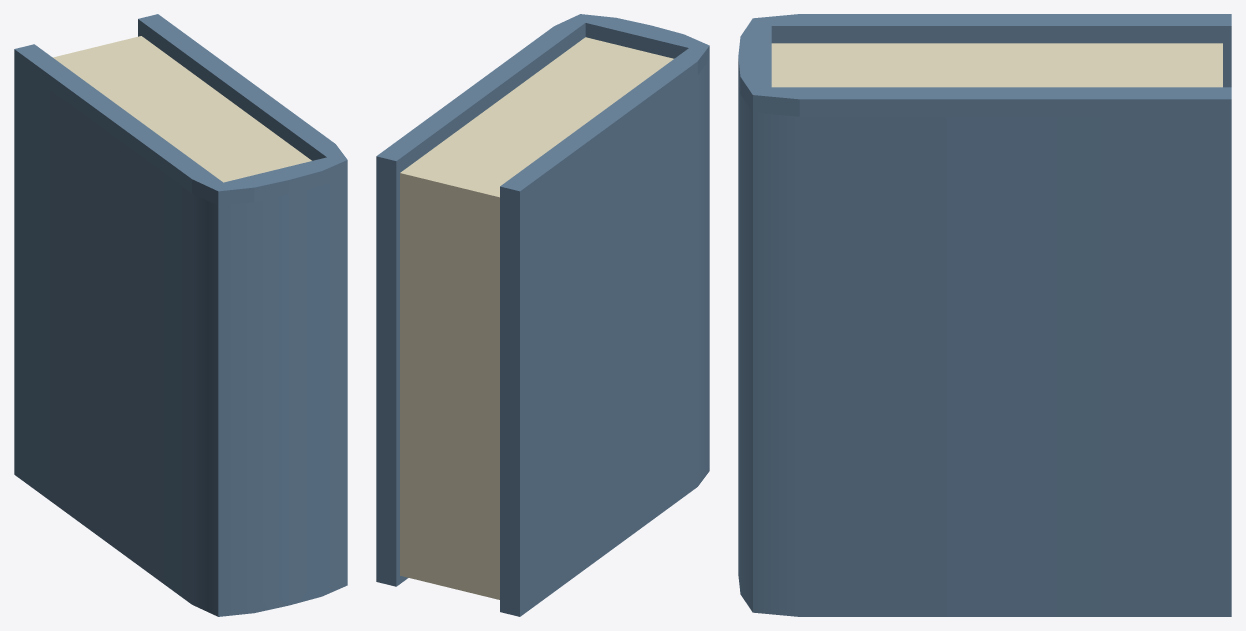
The model's file is atoll_Book_04.fbx.
3 renders of one model, left to right at view 1: azimuth 30°, elevation 25°; view 2: azimuth 150°, elevation 25°; view 3: azimuth 270°, elevation 25°, orthographic. The views are drawn at different scales.
Parts seen in each view (by area): view 1: Book_Blue; view 2: Book_Blue; view 3: Book_Blue.
Boxes of the visible parts, left/top/right/bottom form: Book_Blue: left=14, top=14, right=347, bottom=616; Book_Blue: left=376, top=14, right=709, bottom=616; Book_Blue: left=738, top=14, right=1231, bottom=616.
Size of the model in its own units: 5.44 by 15.38 by 13.29.
